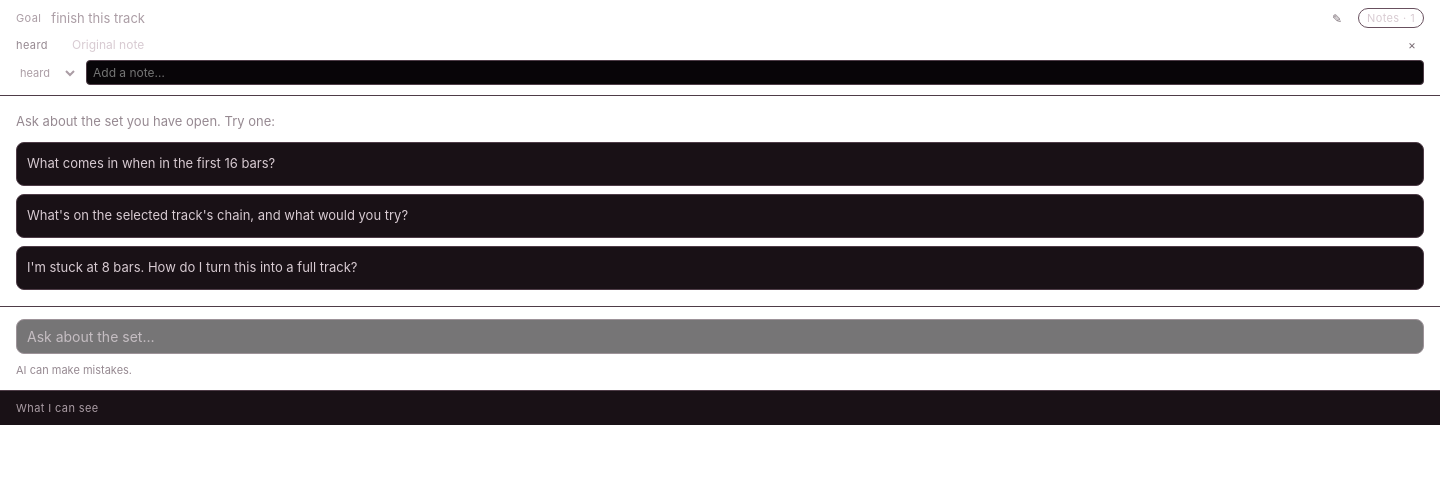
keeps a rejected note add draft until installation fails and the producer retries
Type "Keep this draft" into the field with placeholder "Add a note…" at x=755, y=72, box [86,60,1424,85]
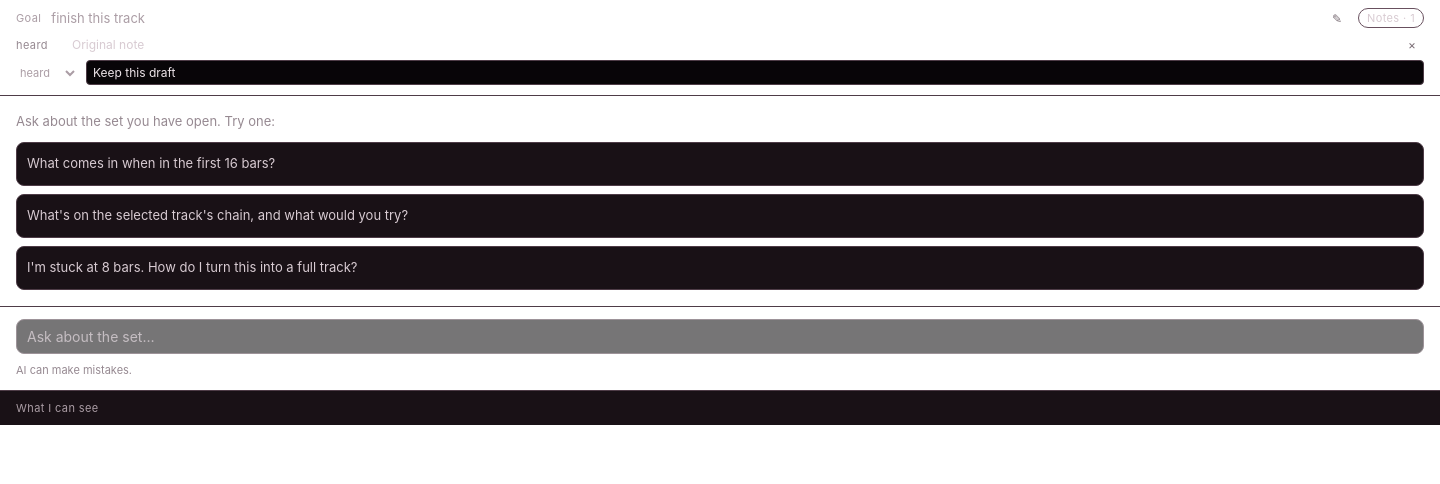
Press Enter in the field with placeholder "Add a note…", box [86,60,1424,85]
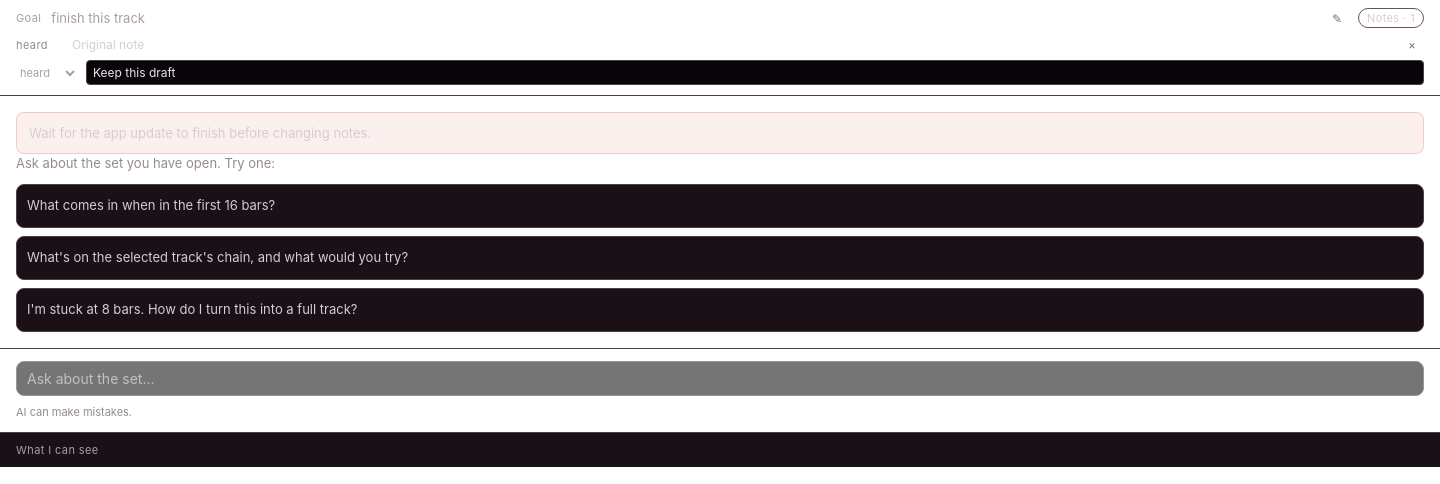
Press Enter in the field showing "Keep this draft", box [86,60,1424,85]
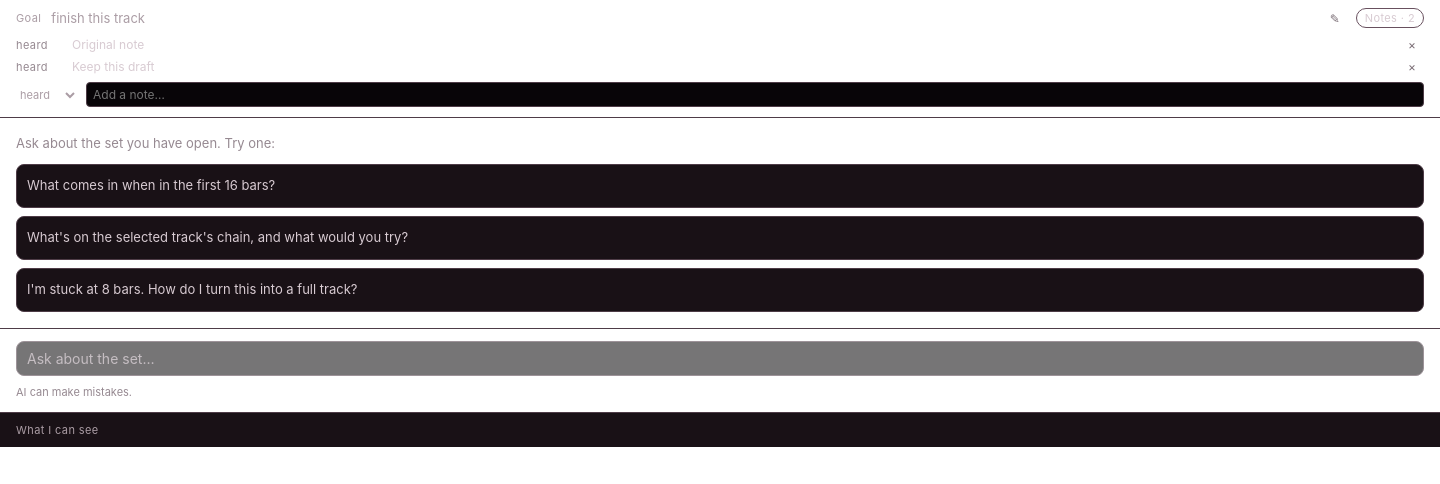
expect the button "Keep this draft" is shown: met, box [72,58,1392,76]
